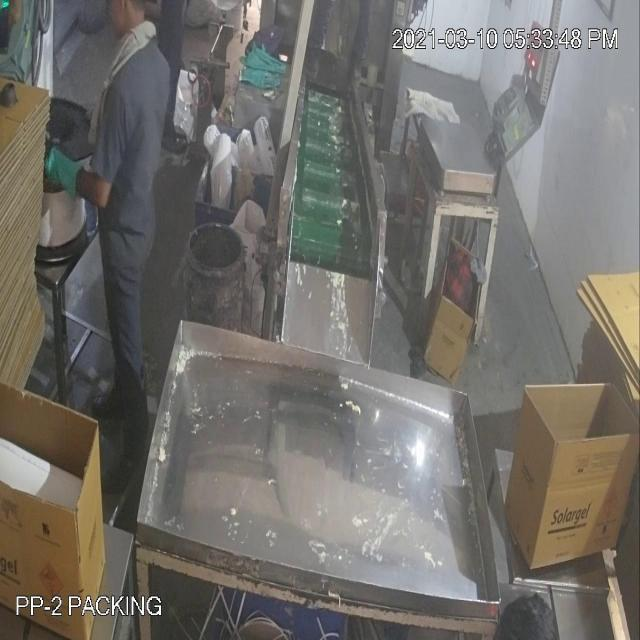Gloves: (41, 132, 86, 209)
